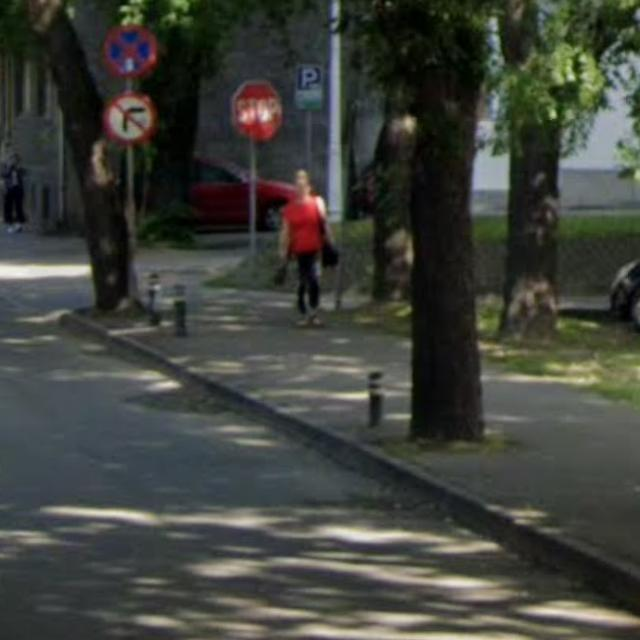forb_waiting: (103, 25, 158, 77)
prio_stop: (234, 81, 283, 140)
